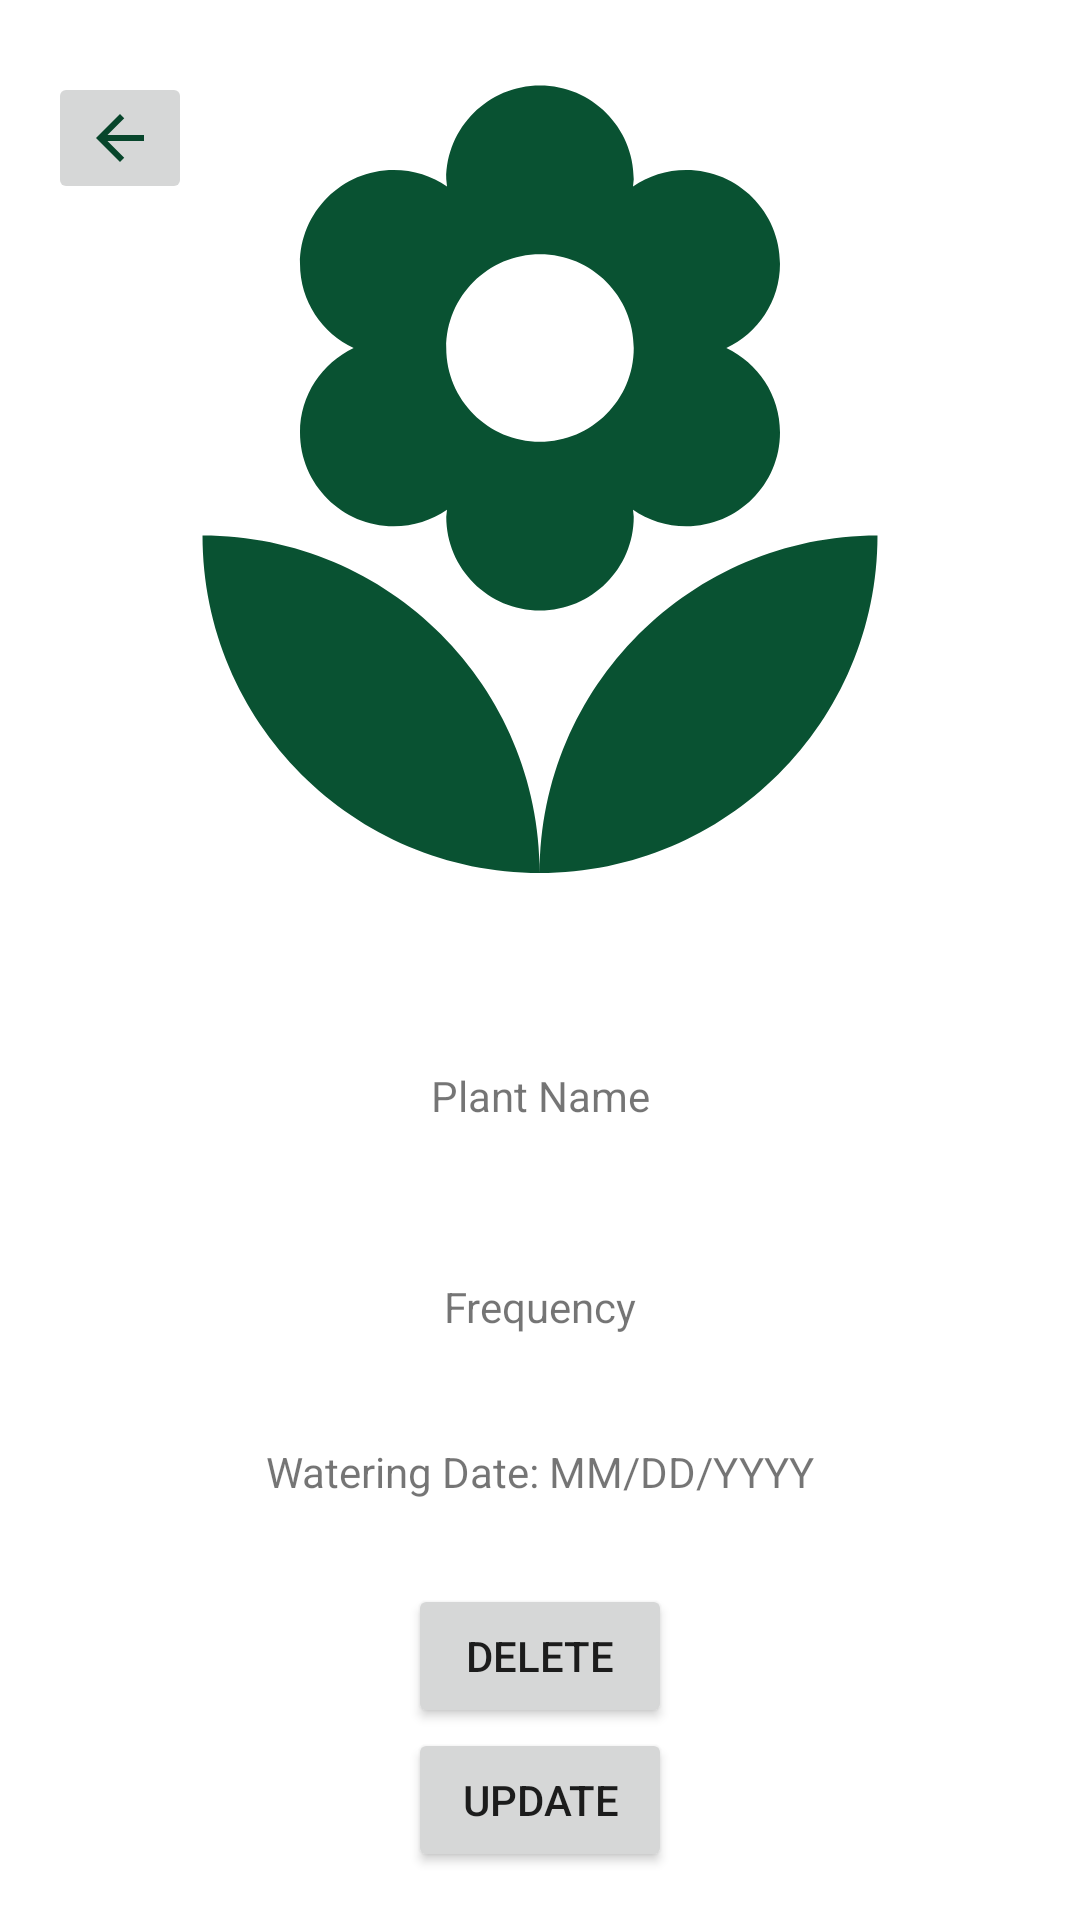

Icons on this 1080px x 1920px Android screen, each with its box as (x1, y1, x2, y2):
back: (60, 90, 180, 186)
